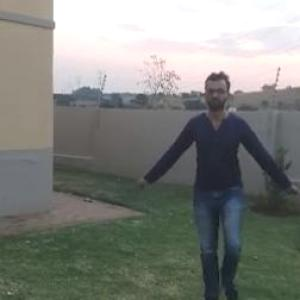land: (142, 62, 298, 299)
